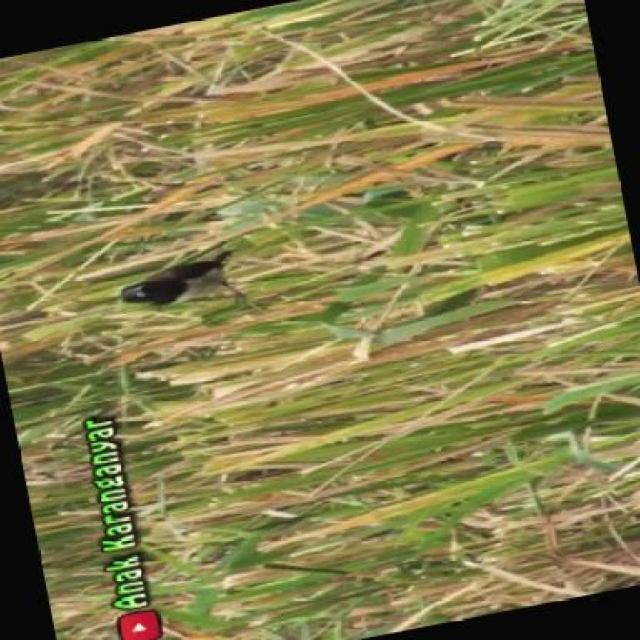Bird: (119, 252, 254, 311)
